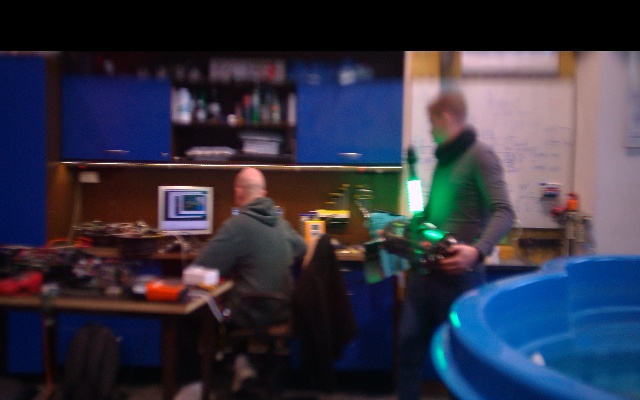green: (406, 179, 423, 217)
